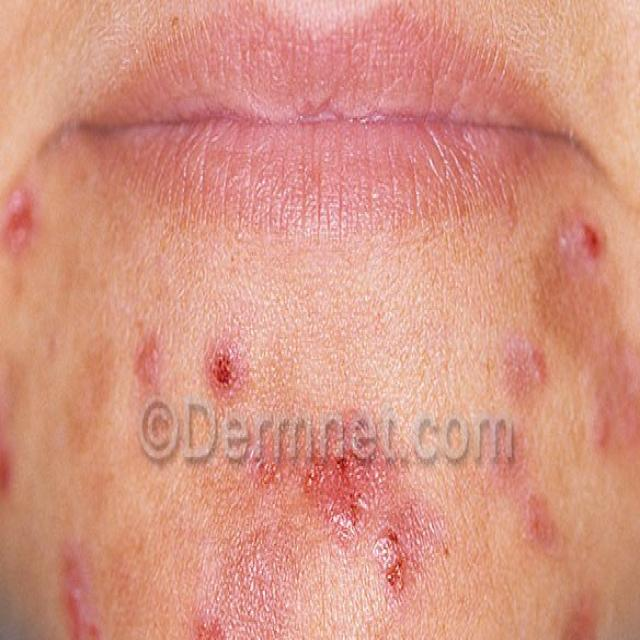Acne: (134, 303, 632, 640), (0, 150, 72, 286), (538, 202, 633, 292), (37, 529, 113, 640), (0, 348, 35, 535)
